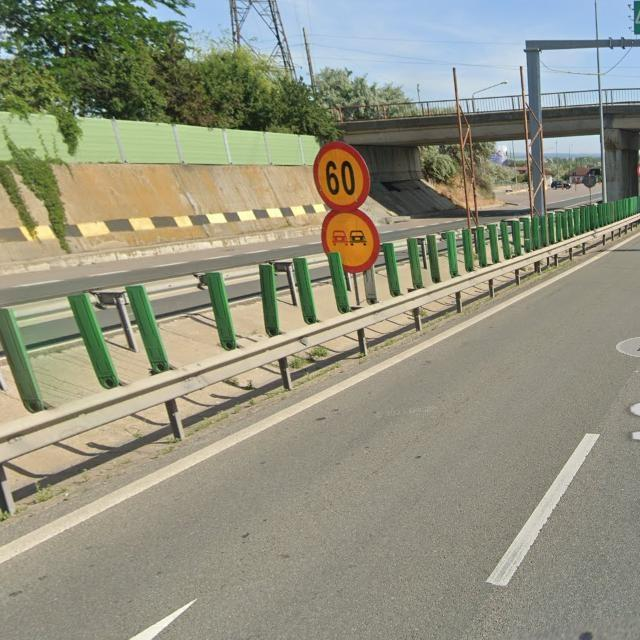forb_overtake: (321, 209, 380, 274)
forb_speed_over_60: (312, 141, 371, 212)
